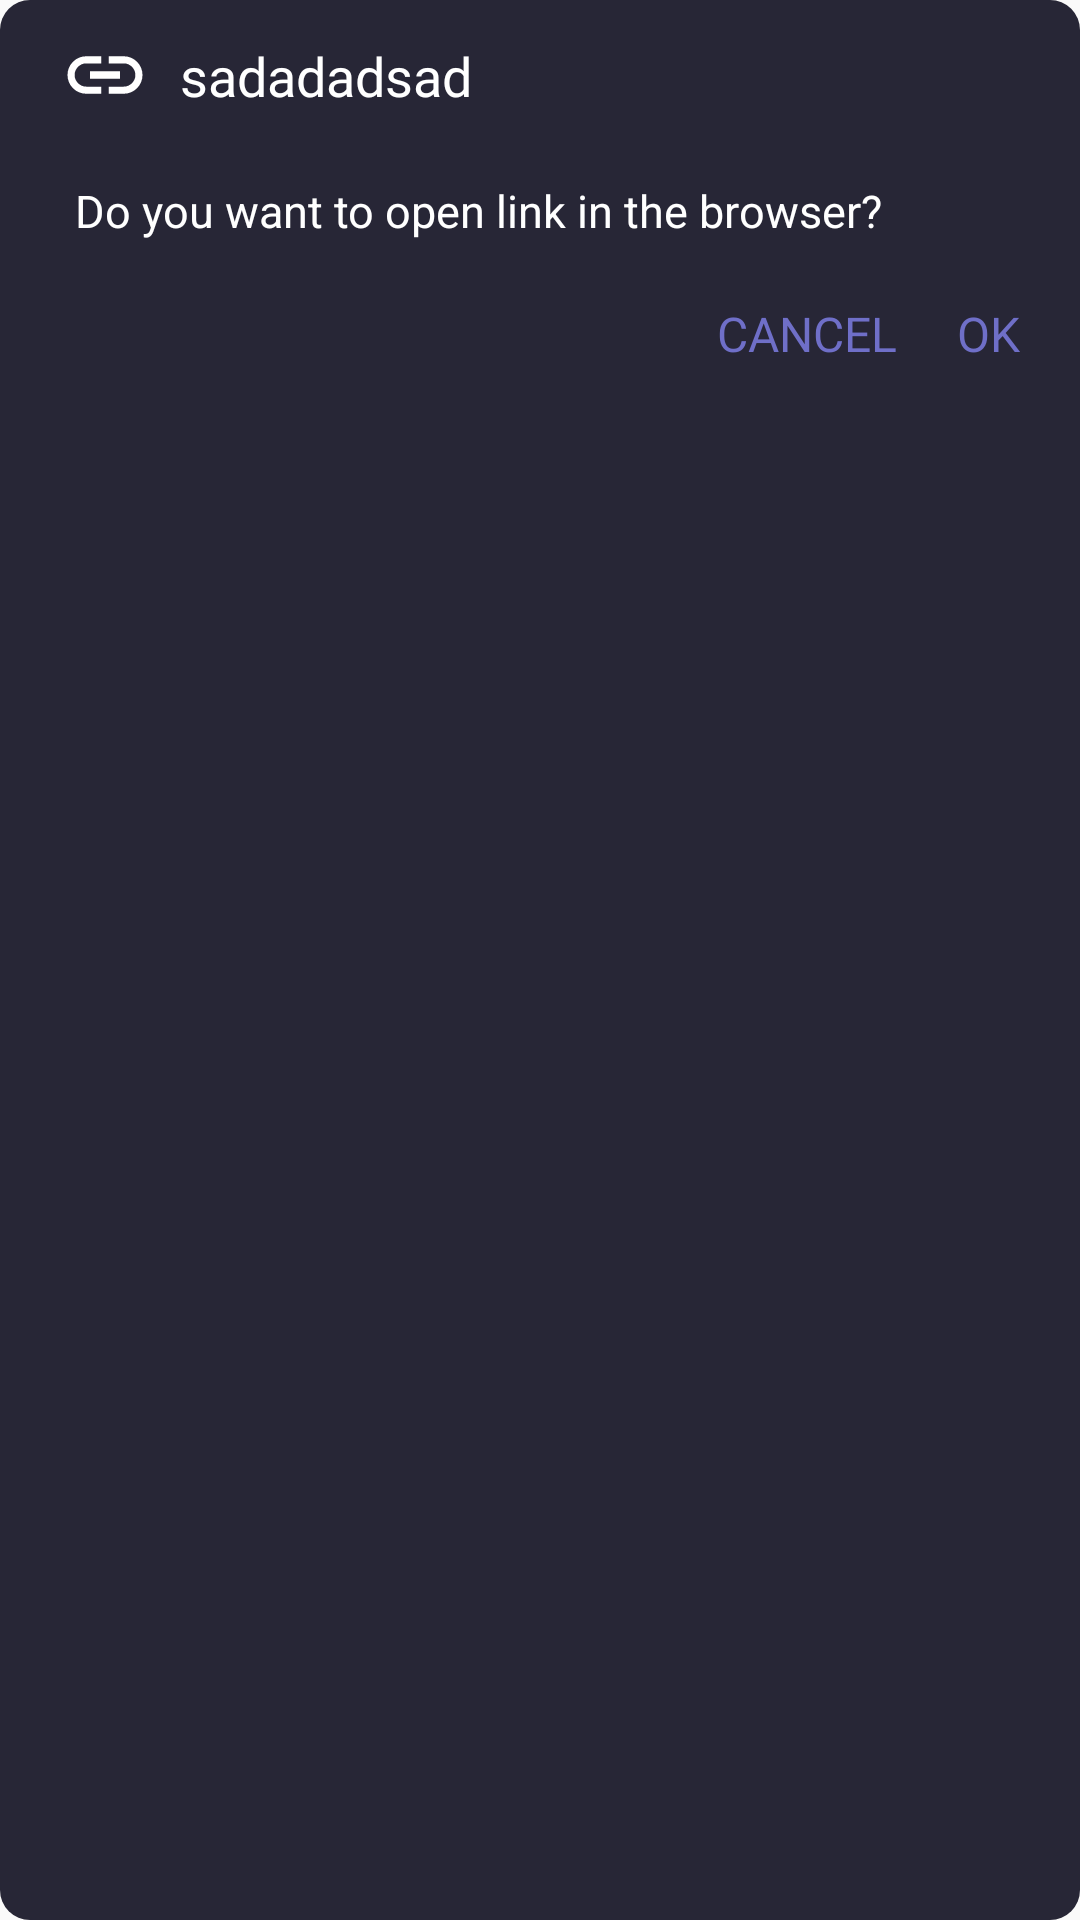

Icon click points for this 1080px x 1920px phone screenshot, format (x=x, y=y):
quick add link: (x=105, y=75)
